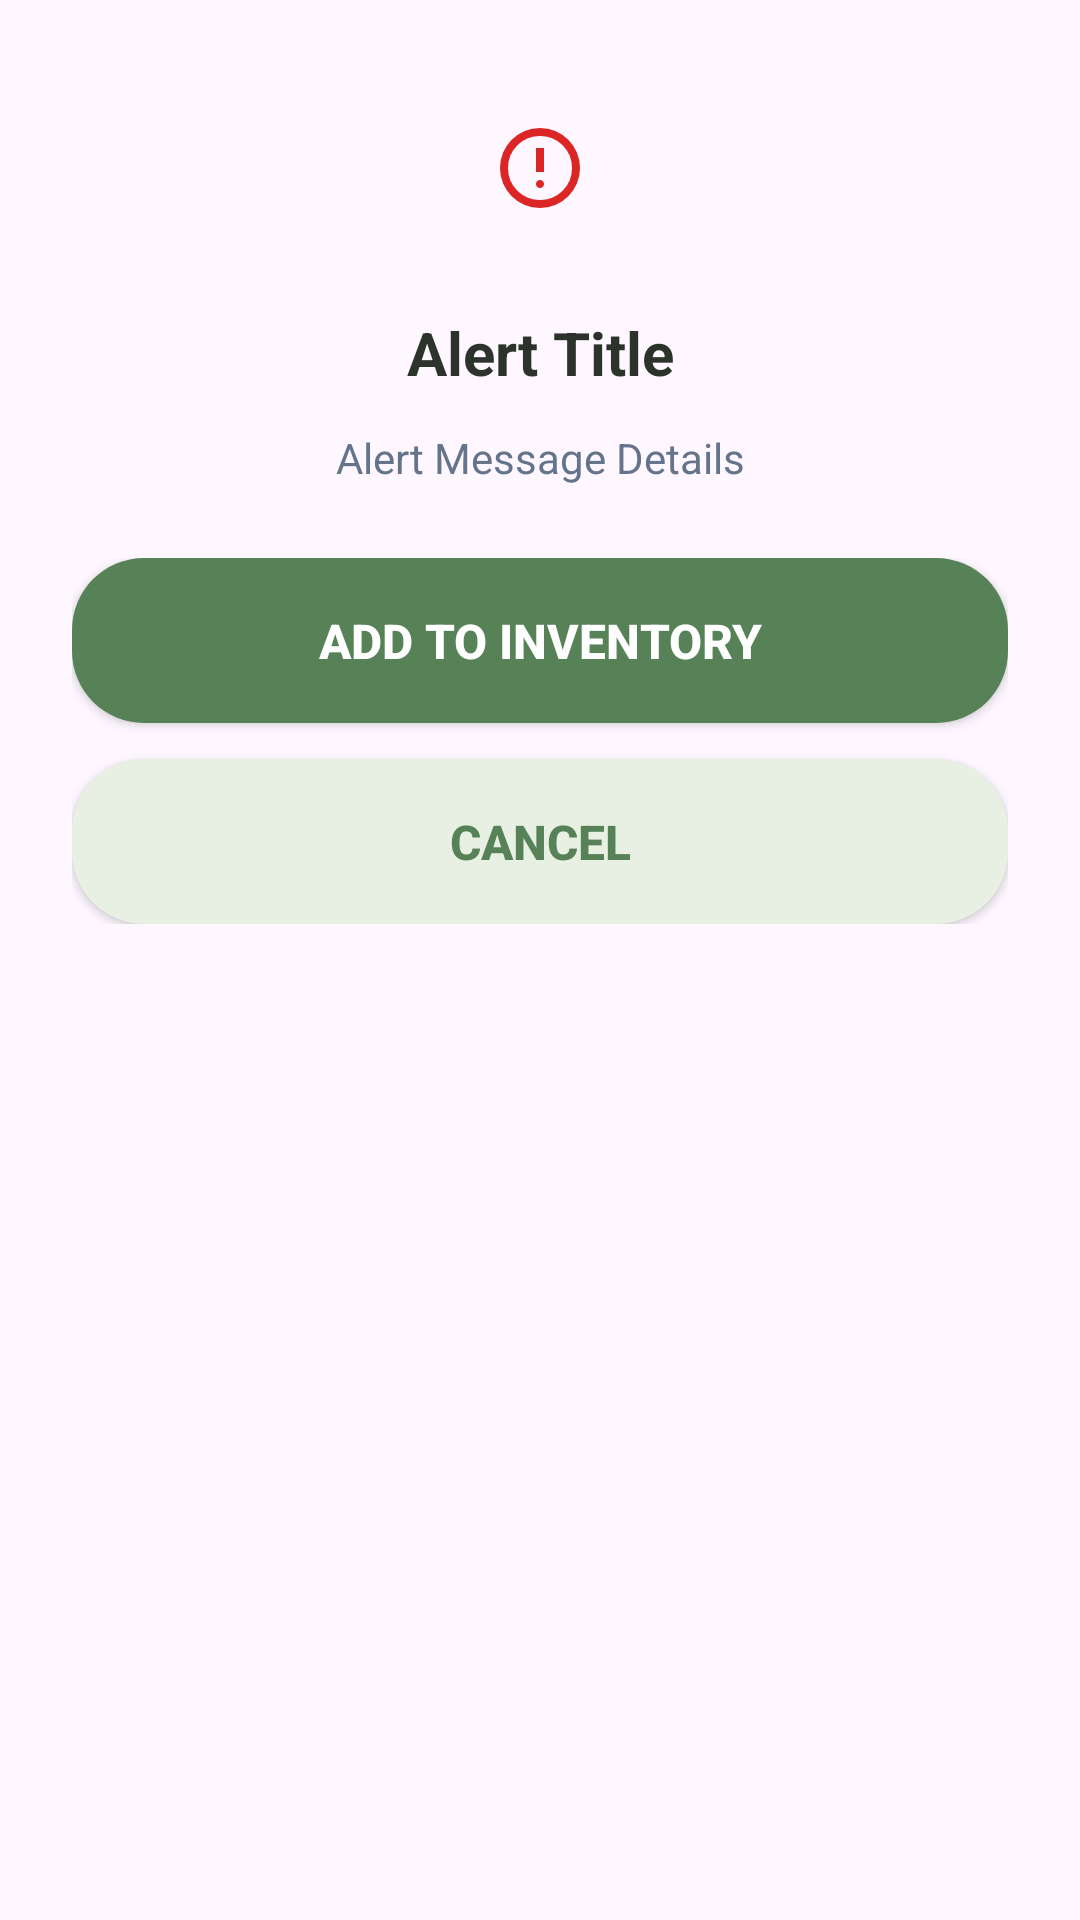

Screen size 1080 × 1920. Icon name, then its center in pixels as point (x, y):
warning: point (540, 168)
